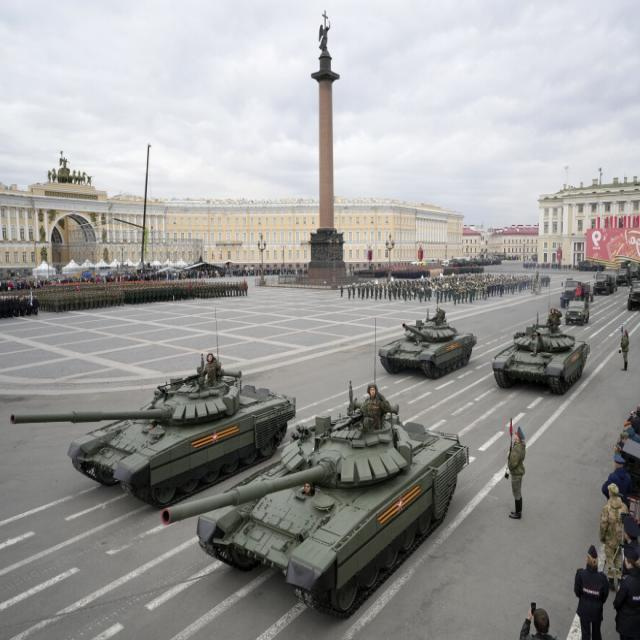MIL_MBT: (160, 381, 470, 622), (8, 362, 296, 508), (492, 310, 590, 396), (378, 306, 476, 382)
